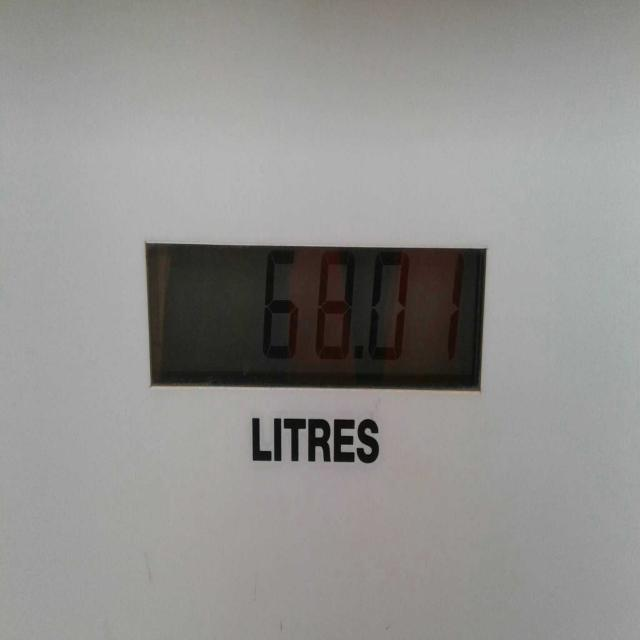.: (348, 336, 369, 376)
0: (365, 246, 416, 374), (432, 256, 472, 363)
6: (248, 249, 308, 366)
8: (312, 249, 357, 381)
